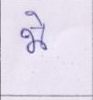e_matra: (25, 11, 47, 26)
